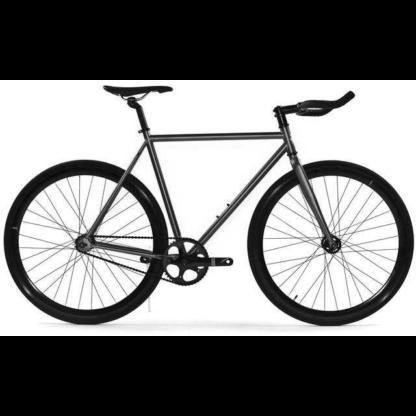Bicycle: (0, 82, 414, 329)
